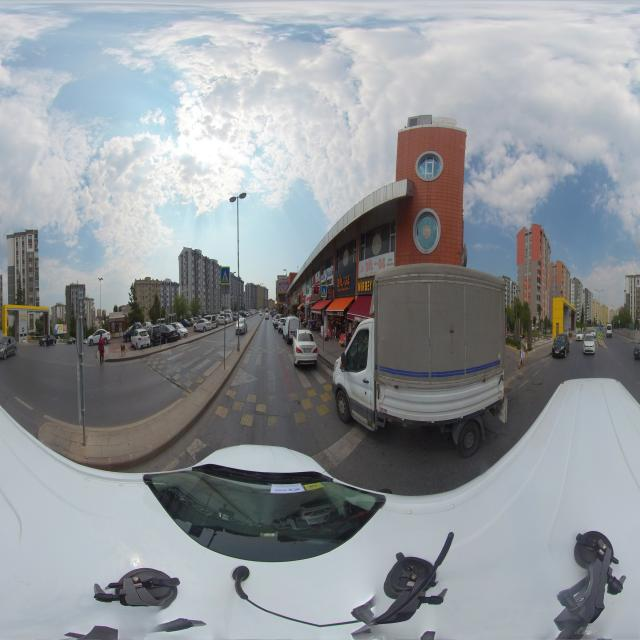SignStore: (358, 251, 395, 278), (334, 263, 355, 296), (357, 276, 373, 295), (306, 296, 310, 303), (296, 295, 299, 304), (302, 296, 305, 302)
